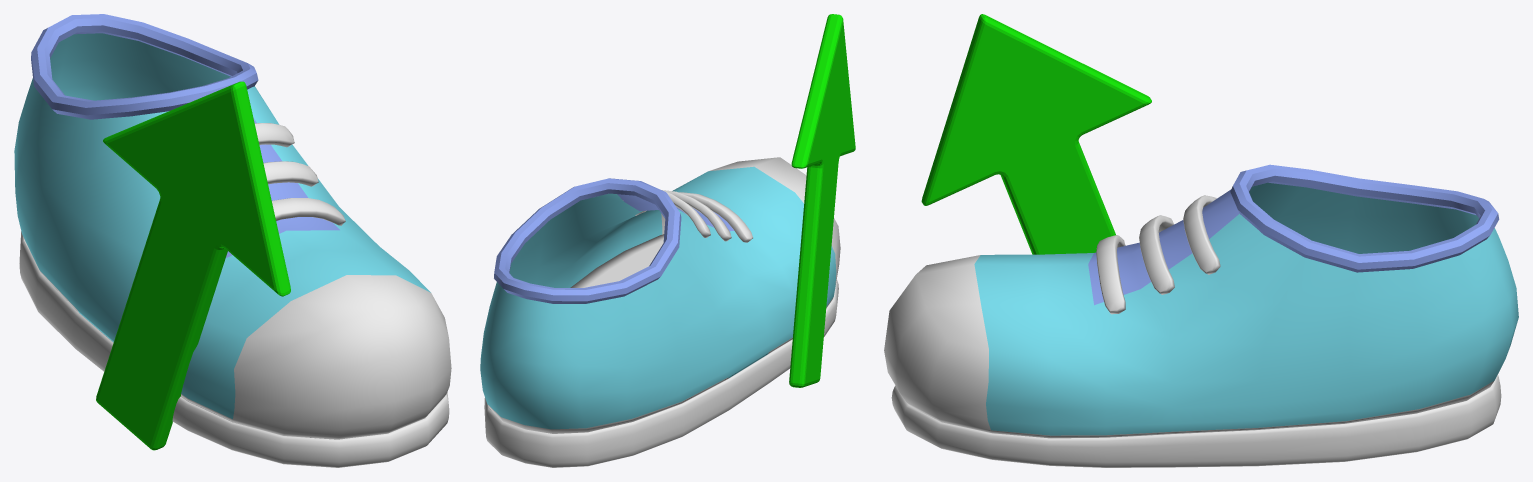
File: speedUp.fbx
3 renders of one model, left to right at view 1: azimuth 30°, elevation 25°; view 2: azimuth 150°, elevation 25°; view 3: azimuth 270°, elevation 25°, orthographic. The views are drawn at different scales.
Parts seen in each view (by area): view 1: Shoes_01, Vert.001; view 2: Shoes_01, Vert.001; view 3: Shoes_01, Vert.001.
Boxes of the visible parts, x1,y1,x2,y2 form: Shoes_01: (14, 14, 451, 467); Vert.001: (96, 81, 290, 450); Shoes_01: (480, 157, 840, 467); Vert.001: (789, 14, 855, 387); Shoes_01: (884, 164, 1518, 467); Vert.001: (921, 14, 1151, 254).
Size of the model in its own units: 562 by 762 by 1168.
